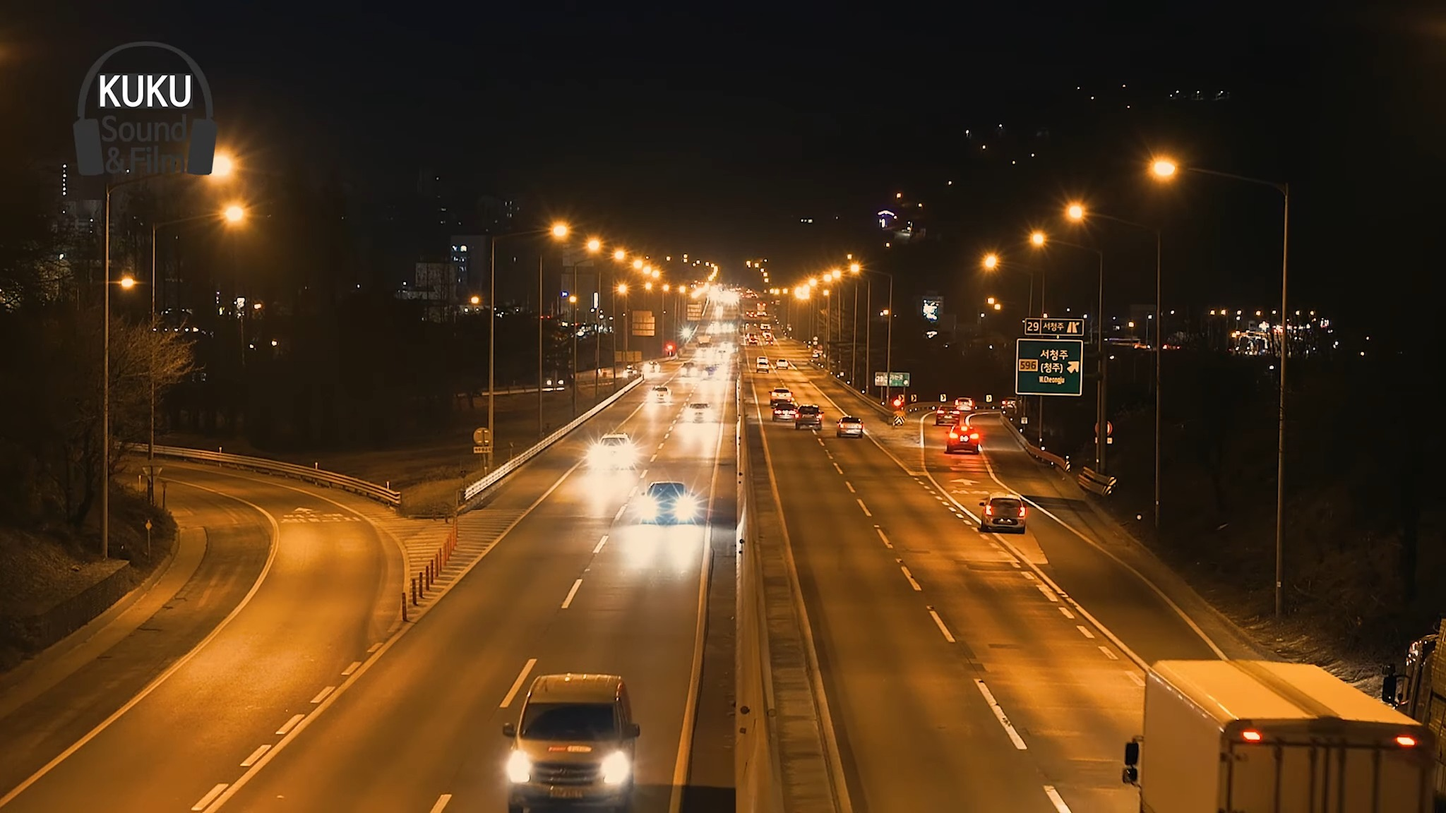car: (509, 673, 638, 813), (632, 480, 692, 526), (980, 496, 1027, 538)
